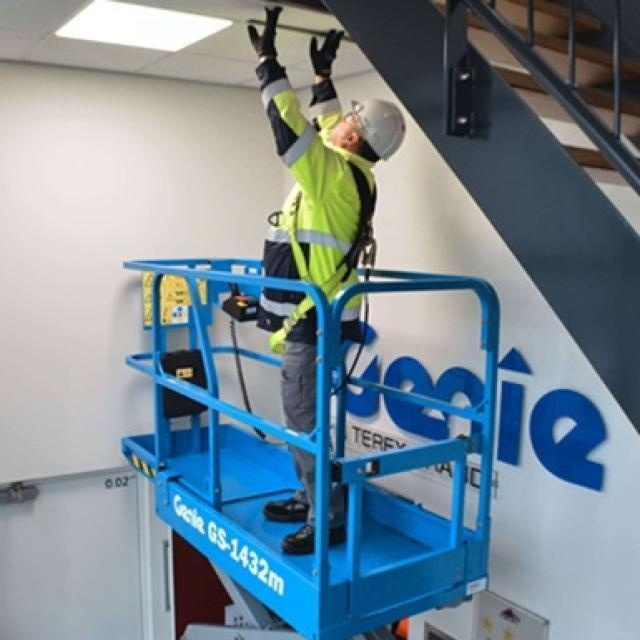Arnes_seguridad: (269, 141, 378, 362)
